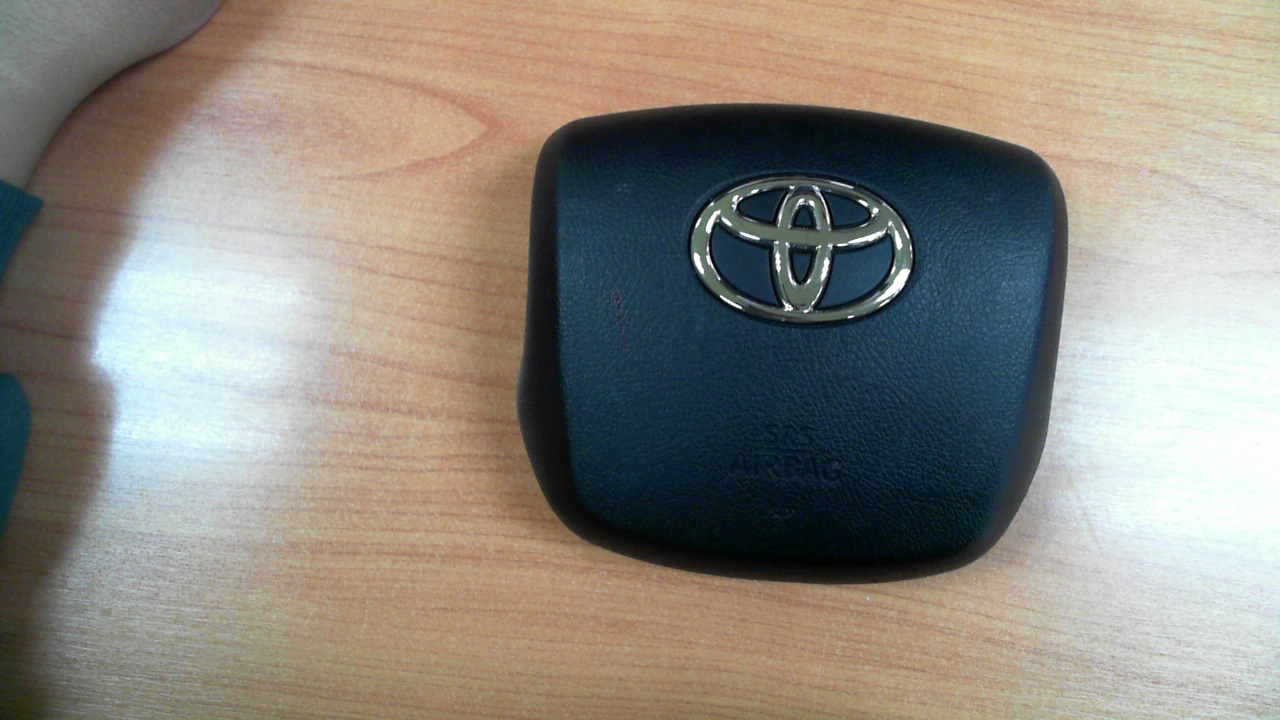Airbag: (510, 103, 1069, 585)
Toyota: (690, 175, 914, 323)
